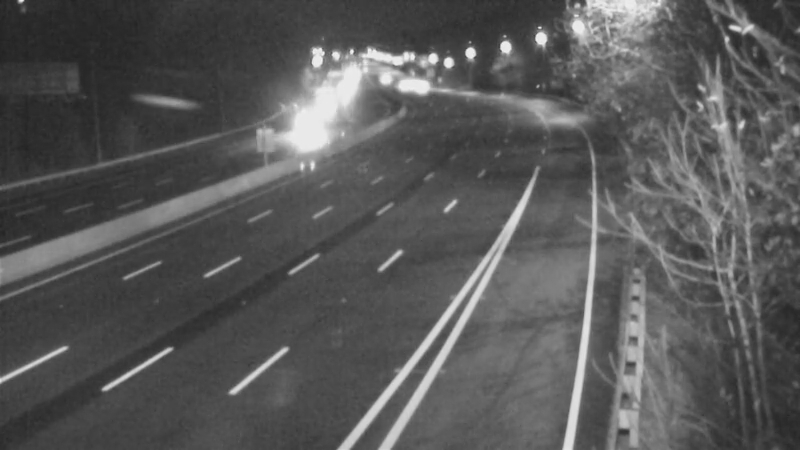vehicle: (360, 54, 410, 104), (394, 64, 444, 114), (280, 104, 330, 154)
